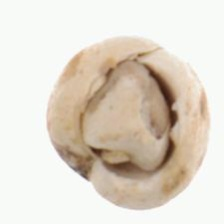L3: (76, 57, 180, 180)
L4: (48, 35, 211, 210)
